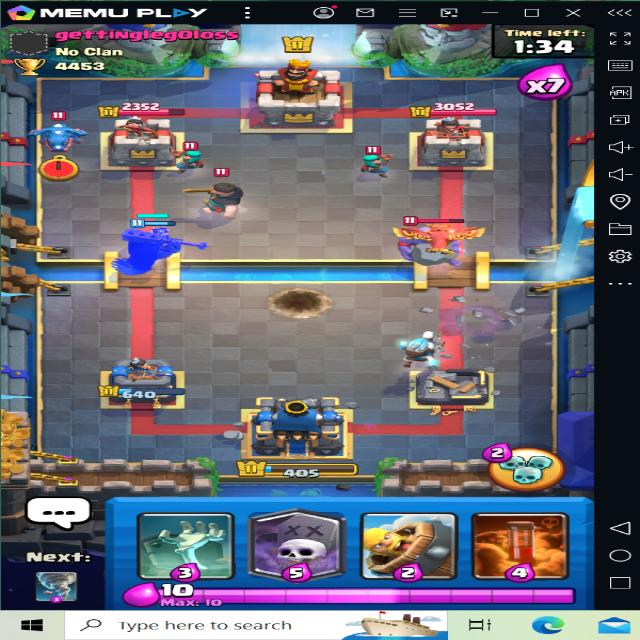Bowler: (396, 213, 469, 265)
Edragon: (27, 108, 92, 159)
Rascalboy: (184, 168, 272, 215)
Rascalgirl: (352, 142, 392, 174), (174, 142, 210, 172)
